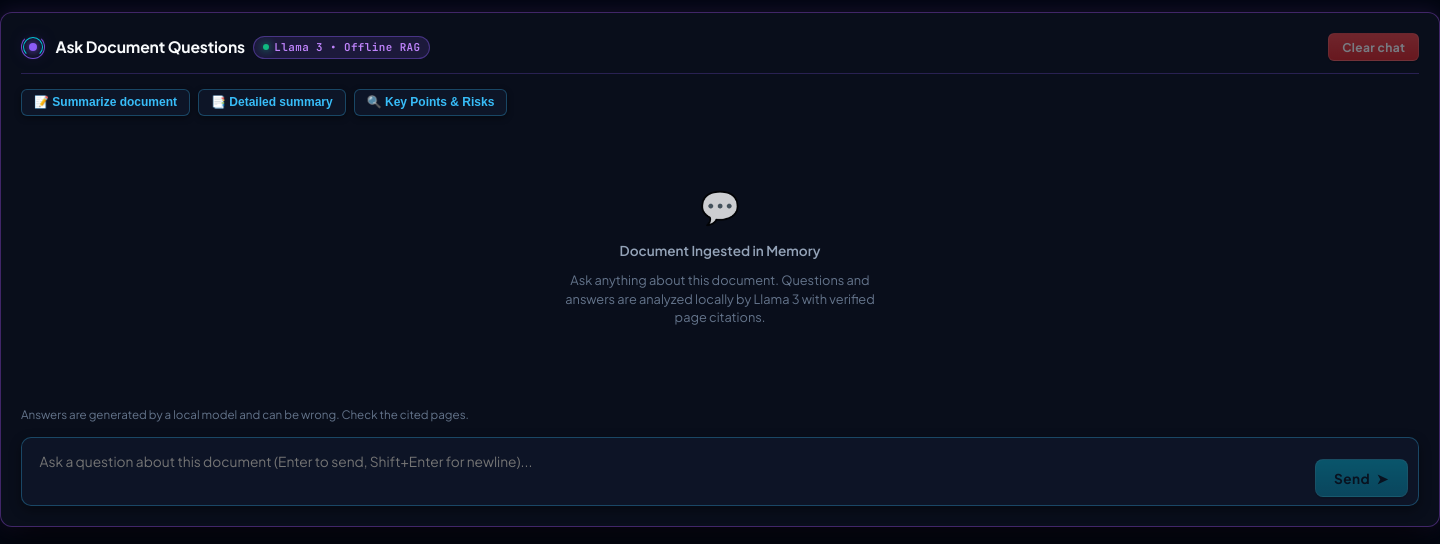
Test: ChatPanel Component Security & Interaction Tests › renders page chips derived strictly from the verified sources SSE event
The image size is (1440, 544).
Replace the text in the text box with placeholder "Ask a question about this document" with "Where is the data?" at (668, 472), box [32,446,1304,497]
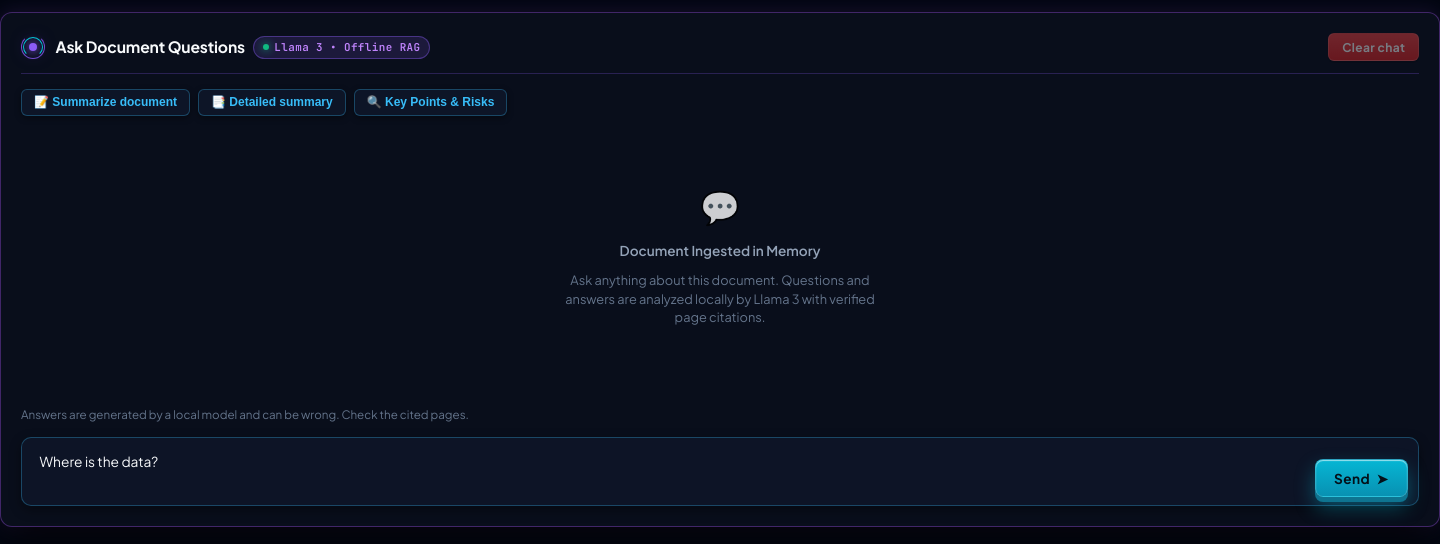
Click the button with aria-label "Send question" at (1361, 478), box [1315,459,1408,497]
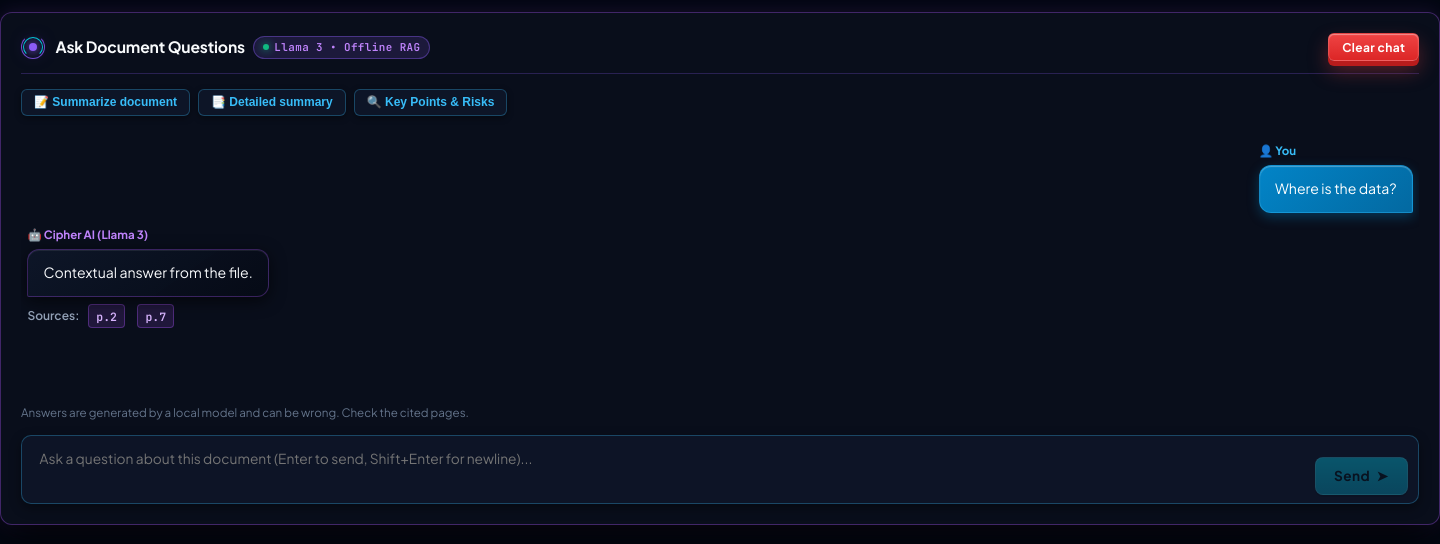
Check: the number of elements with test id "page-chip" is 2, box [88,304,125,328]; [137,304,174,328]
Check: the text with test id "page-chip" reads "p.2", box [88,304,125,328]
Check: the text with test id "page-chip" reads "p.7", box [137,304,174,328]
